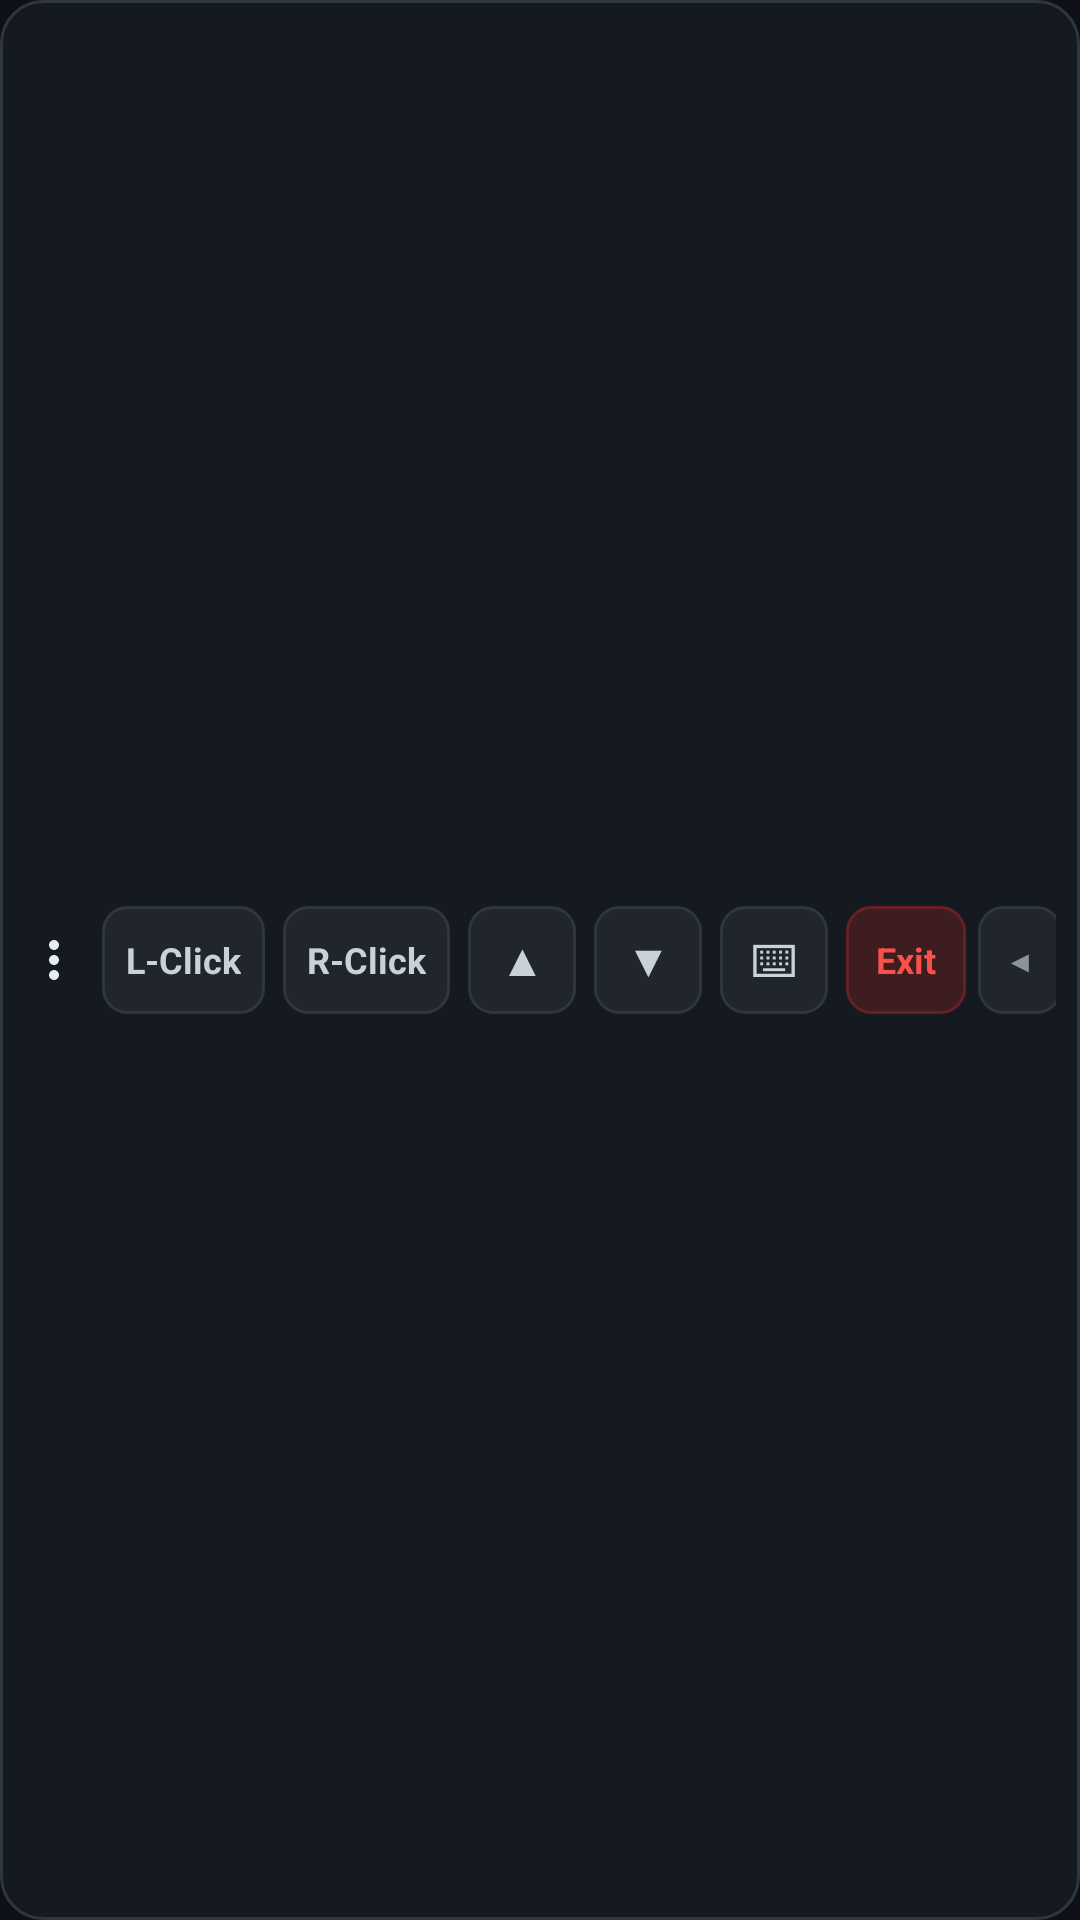

Screen size 1080*1920. Icon name, then its center in pixels as point (x, y):
Drag Handle: point (54, 960)
